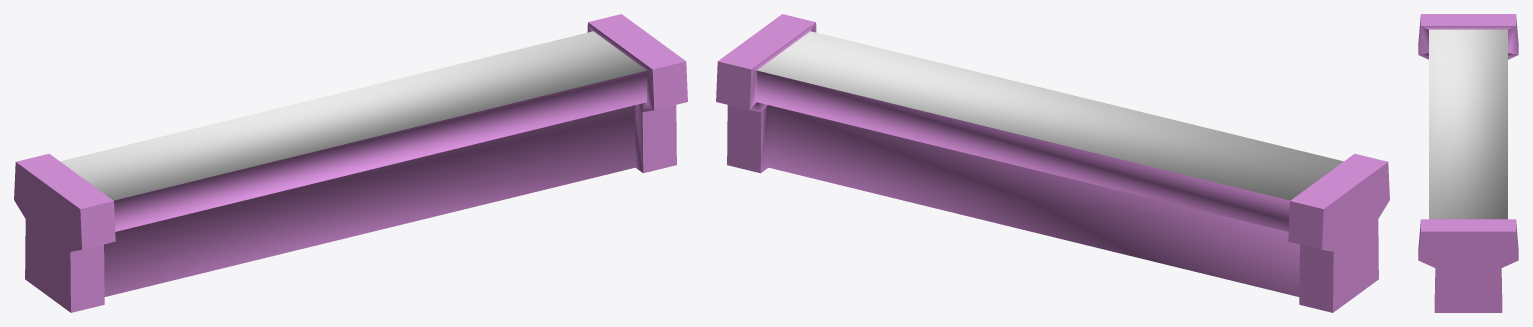
File: ShortClimb.fbx
3 views of the same model, side by side, from view 1: azimuth 30°, elevation 25°; view 2: azimuth 150°, elevation 25°; view 3: azimuth 270°, elevation 25° (orthographic). The views are drawn at different scales.
Parts seen in each view (by area): view 1: ShortClimb; view 2: ShortClimb; view 3: ShortClimb.
Boxes of the visible parts, x1=… form: ShortClimb: x1=14, y1=14, x2=687, y2=312; ShortClimb: x1=716, y1=14, x2=1389, y2=312; ShortClimb: x1=1418, y1=14, x2=1518, y2=312.
Size of the model in its own units: 9 by 1.57 by 1.75.
